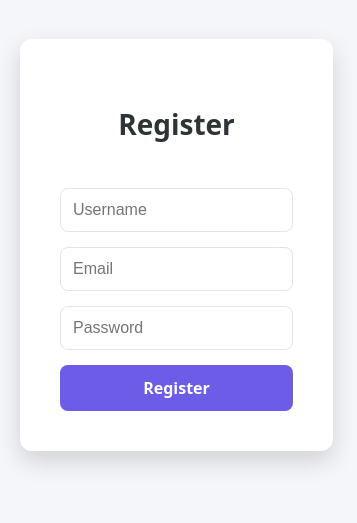
Register page › affiche un message d'erreur si inscription échoue
In the field with placeholder "Username": (176, 210) [60,188,293,232], type "john"
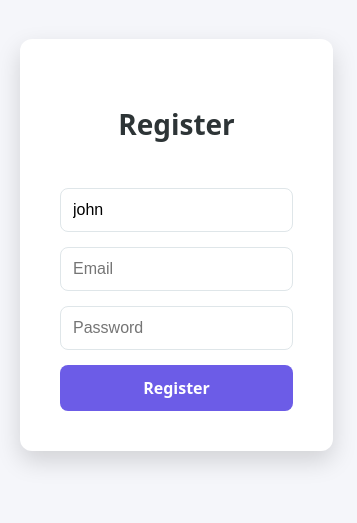
In the field with placeholder "Email": (176, 269) [60,247,293,291], type "john@test.com"
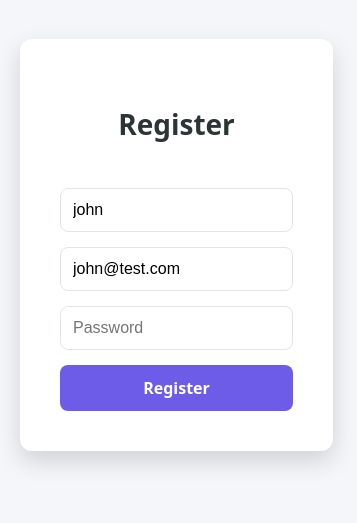
In the password field with placeholder "Password": (176, 328) [60,306,293,350], type "12345678"
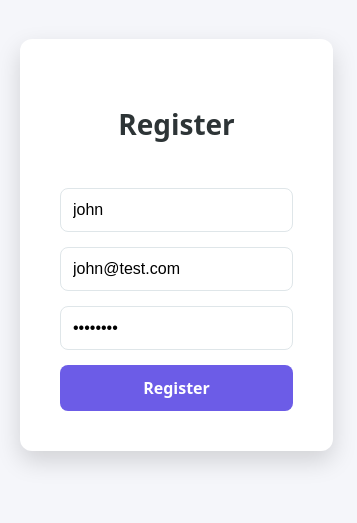
Click the button "Register": (176, 388) [60,365,293,411]
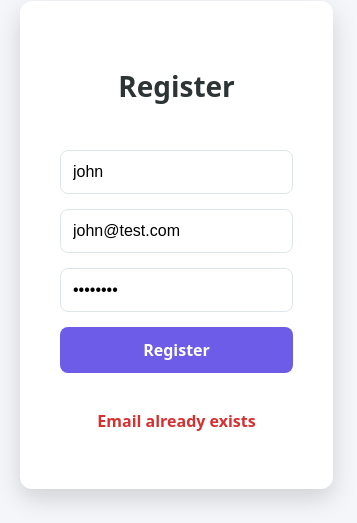
Check: the text "Email already exists" is shown, box [97,410,256,432]
